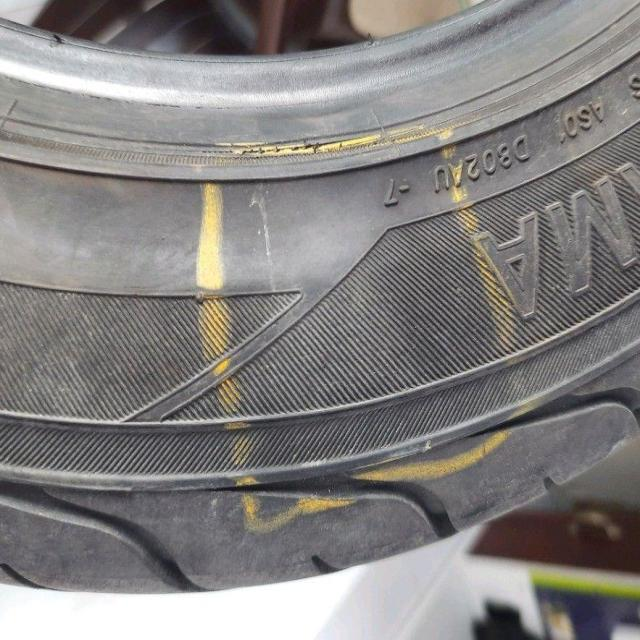Bulge: (288, 209, 484, 423)
